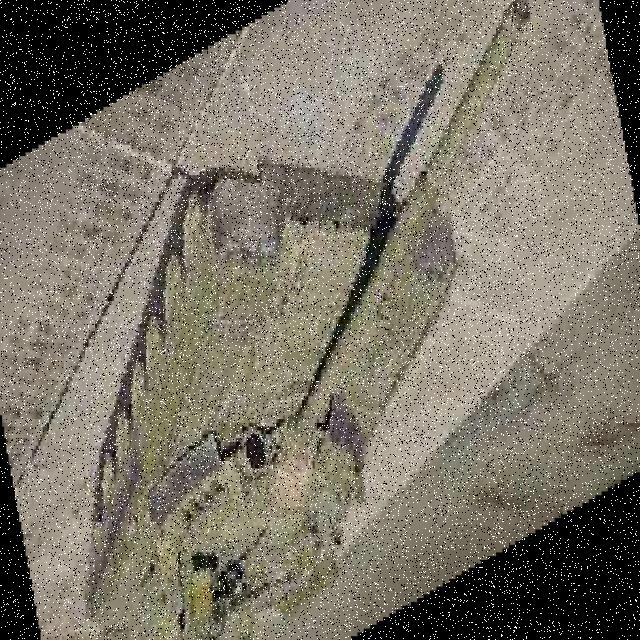MIL_MBT: (85, 2, 533, 638)
